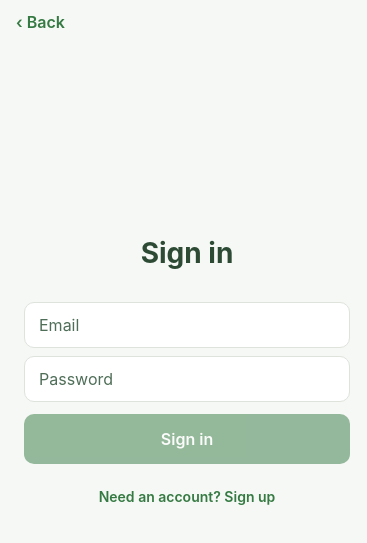
Scenario: an invalid-credential error for an account linked to Google names the provider
In the field with placeholder "Email": (187, 324) [24,302,350,348], type "a@b.com"
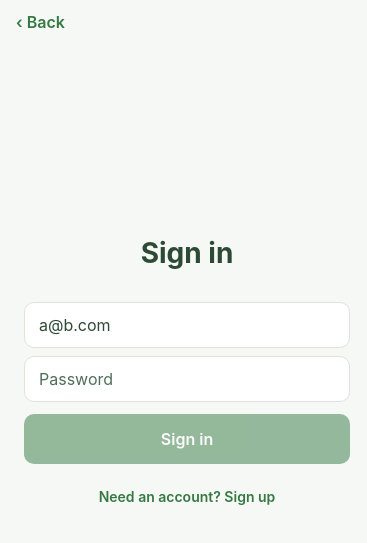
In the password field with placeholder "Password": (187, 378) [24,356,350,402], type "wrong"
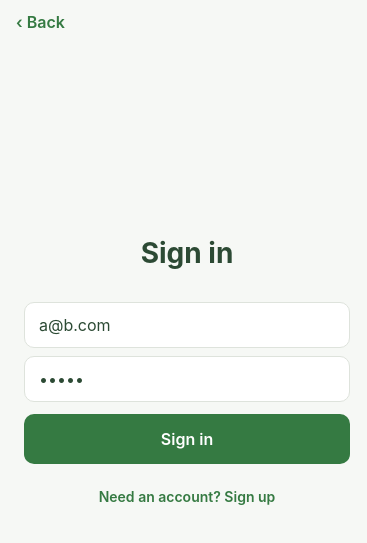
Click the element with test id "email-auth-submit": (187, 438) [24,414,350,464]
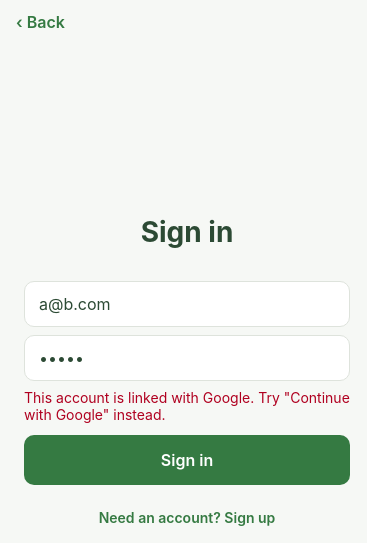
Expected: the text "This account is linked with Google. Try \"Continue with Google\" instead." is shown, [24,388,350,422]
